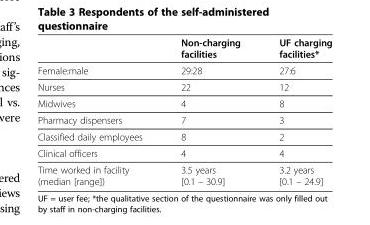table: (36, 36, 331, 186)
table column: (36, 36, 160, 186), (160, 36, 259, 186), (259, 36, 331, 186)
table column header: (36, 36, 331, 61)
table row: (36, 36, 331, 61), (36, 161, 331, 186), (36, 61, 331, 78), (36, 94, 331, 111), (36, 111, 331, 128), (36, 144, 331, 161), (36, 78, 331, 94), (36, 128, 331, 144)
